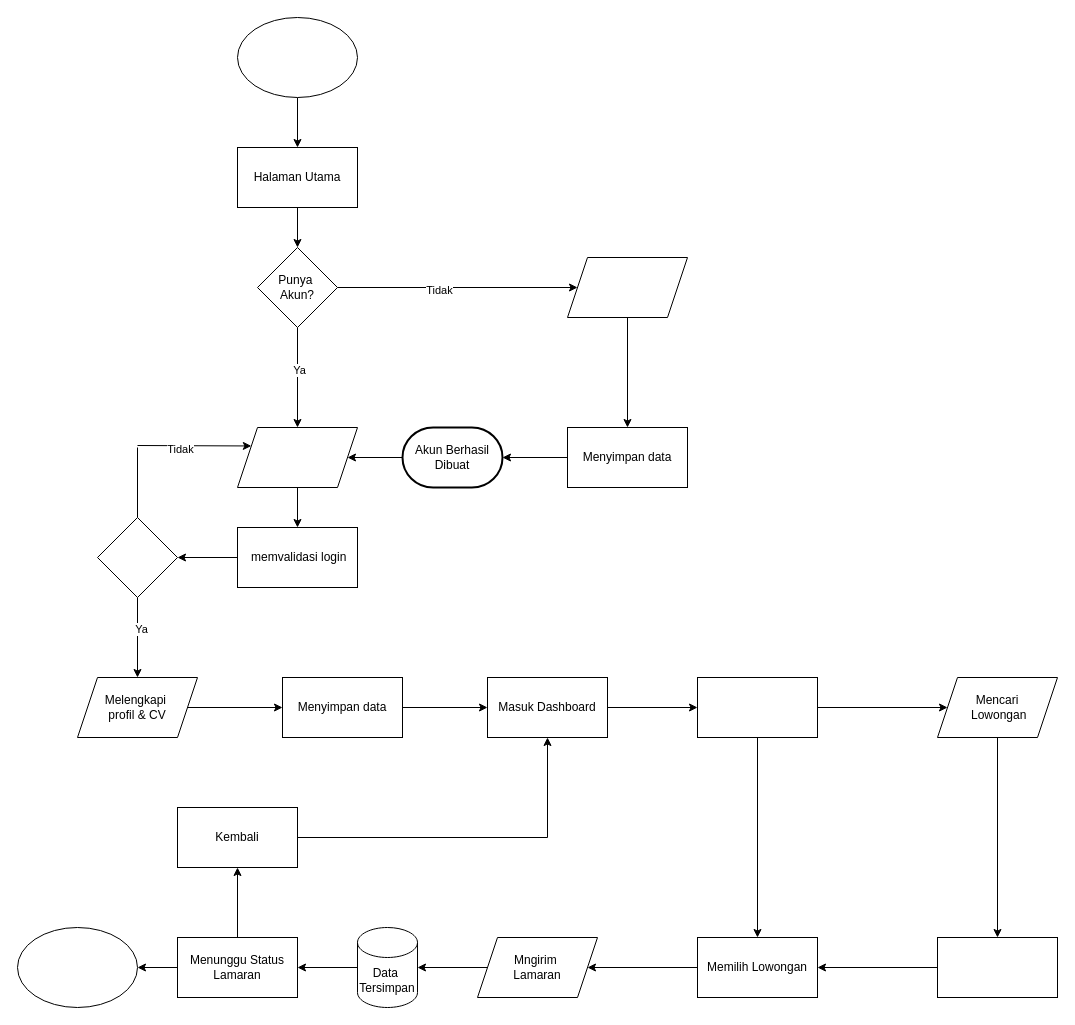
Some shapes in this 1075 by 1025 pixel diagram are drawn without their labels. Here are the shapes that lost their labels. From the top down, the centre of each, then its label:
At pixel 297 57: "Start".
At pixel 627 287: "Registrasi".
At pixel 297 457: "Login".
At pixel 137 557: "Login valid?".
At pixel 757 707: "Daftar lowongan sesuai profesi".
At pixel 77 967: "End".
At pixel 997 967: "Menampilkan daftar lowongan".
